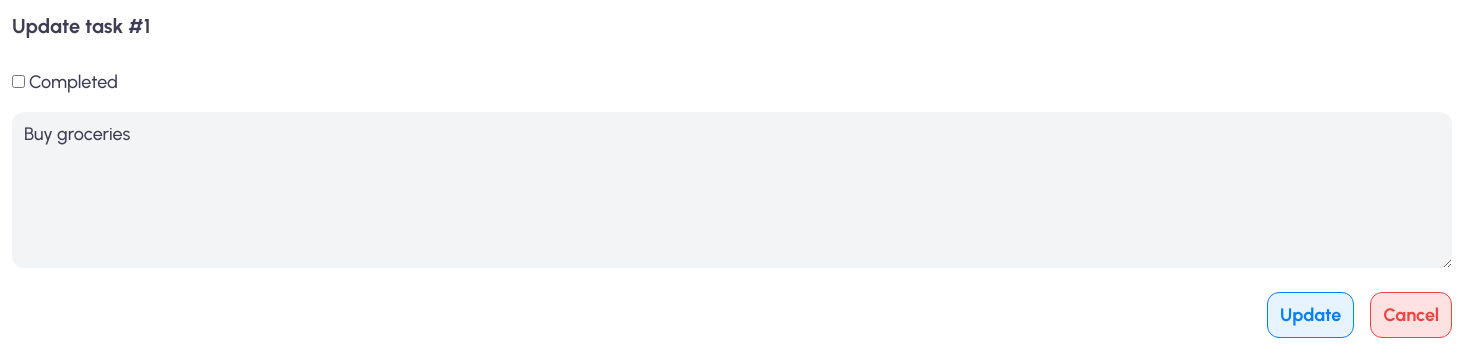
TodoCreatePage › should disable the update button when todo is empty
The width and height of the screenshot is (1464, 355).
Click the checkbox named "Completed": (18, 82) [12,75,25,88]
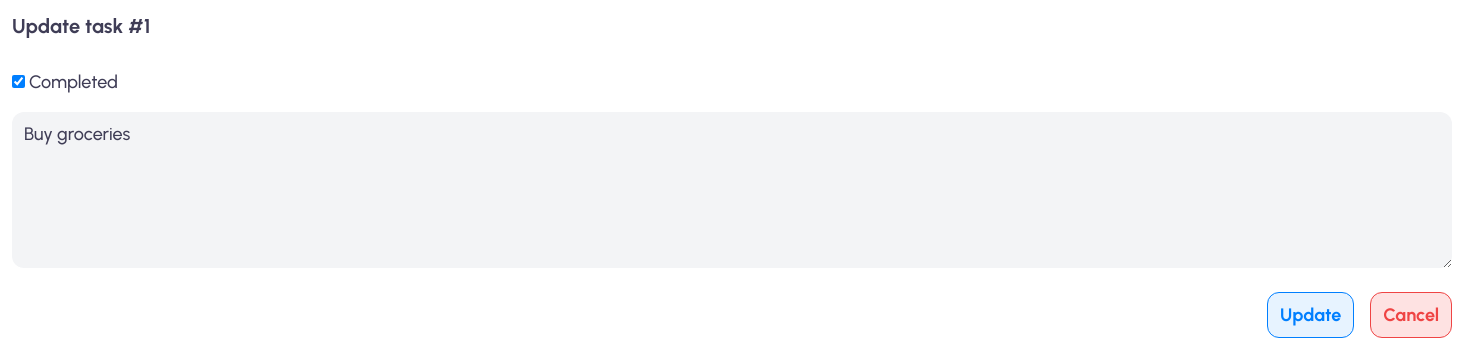
Clear the text box named "Update a note...": (732, 190) [12,112,1452,268]
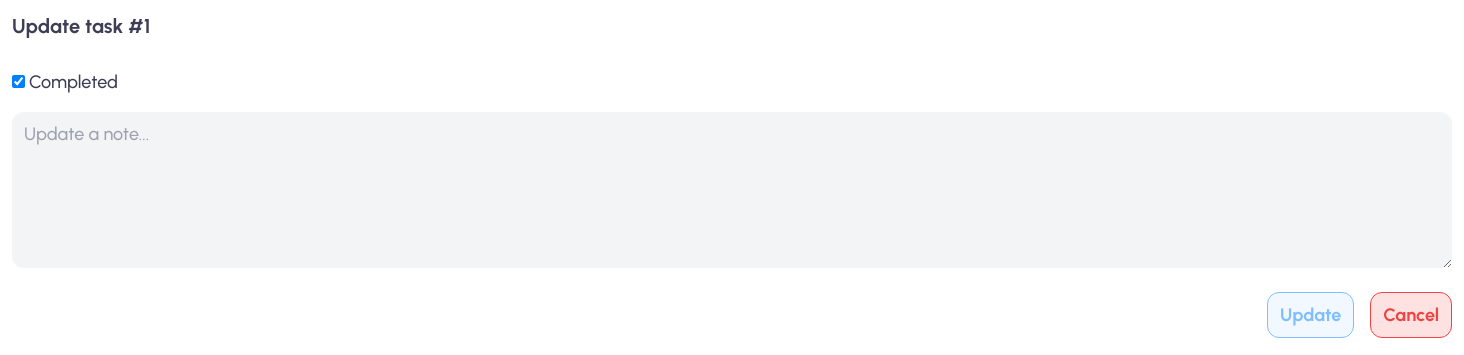
Now the submit button is disabled, box [1267,292,1354,338]
